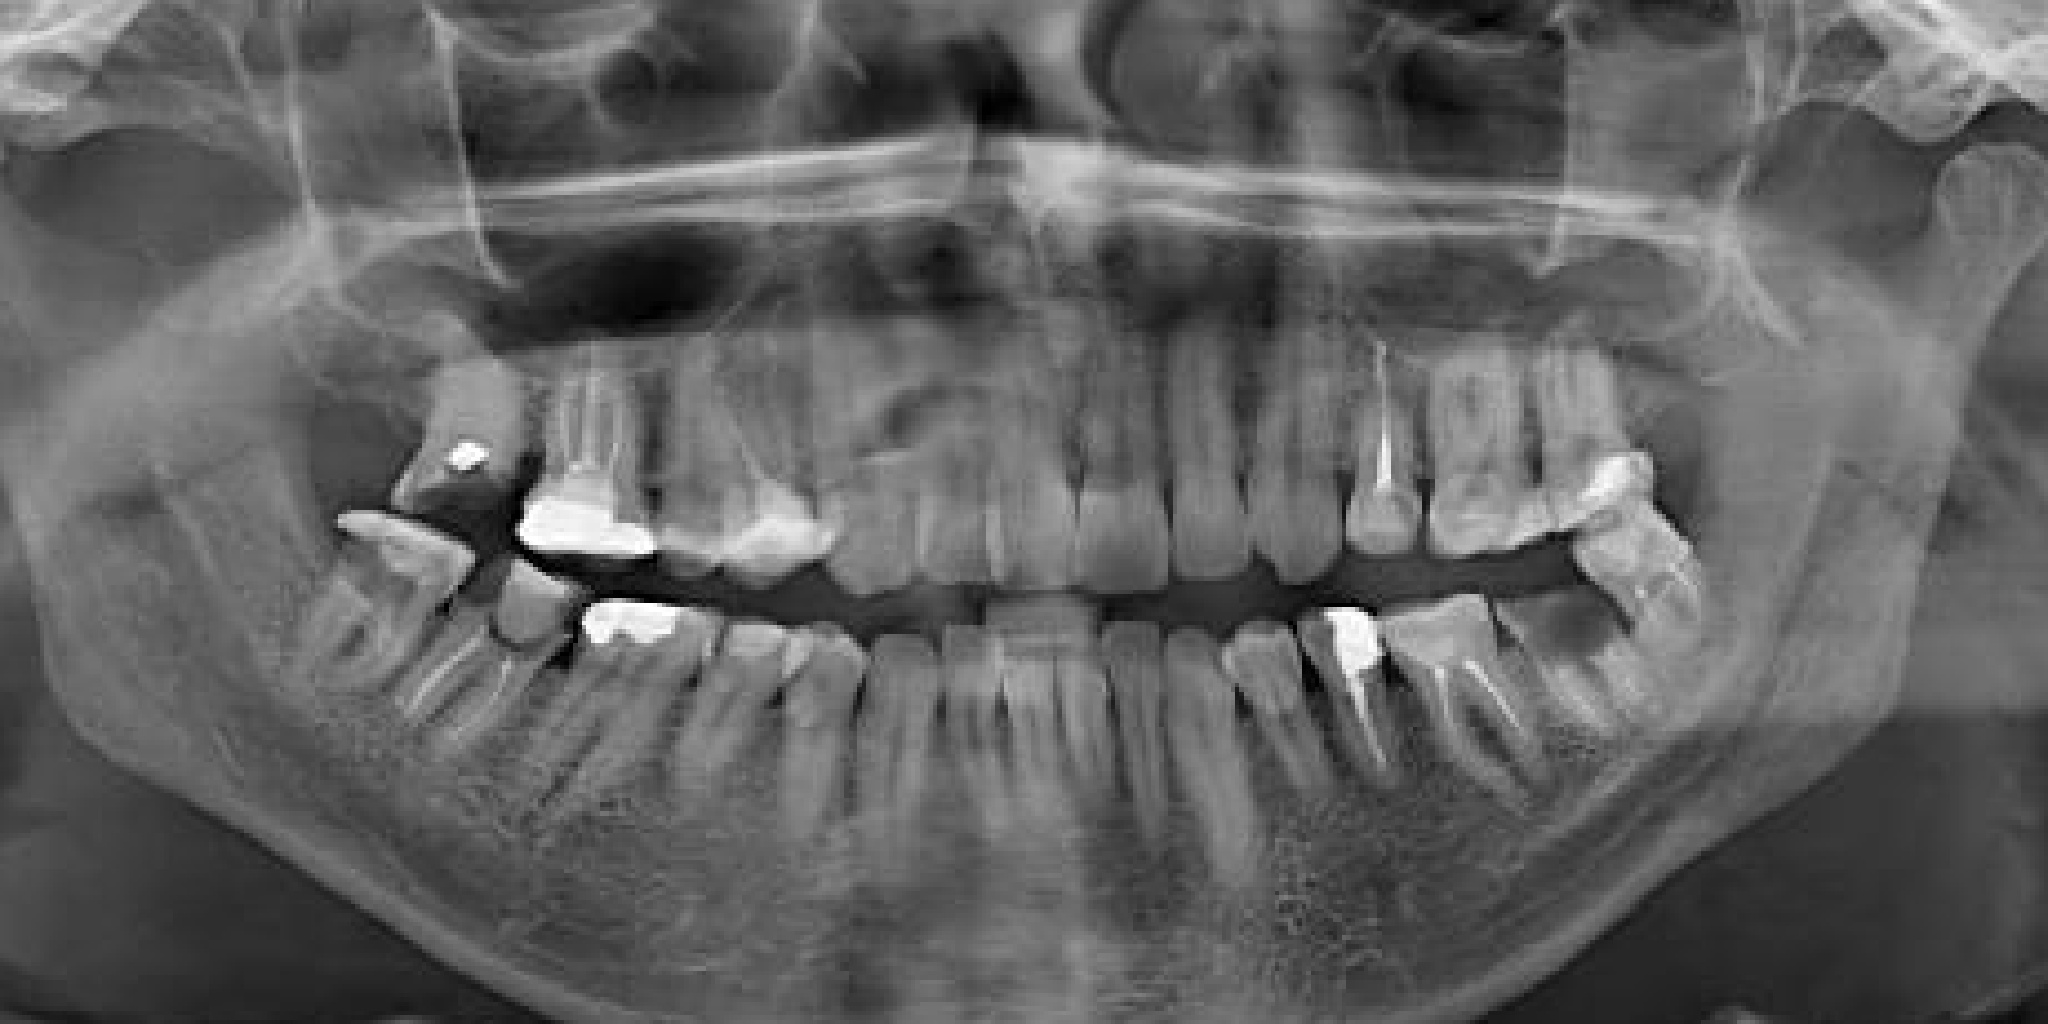Tooth: (485, 551, 731, 863), (249, 469, 496, 734), (379, 524, 606, 799), (1358, 551, 1586, 824), (626, 586, 829, 857), (684, 296, 853, 596), (865, 296, 1021, 600), (1219, 253, 1352, 589), (508, 323, 675, 577), (364, 296, 539, 532), (1147, 611, 1283, 901), (1143, 300, 1277, 590), (1552, 473, 1731, 687), (1512, 296, 1664, 546), (1486, 556, 1668, 764), (968, 303, 1092, 596), (1416, 316, 1558, 566), (1061, 307, 1179, 600), (1287, 581, 1435, 812), (1204, 606, 1352, 829), (844, 626, 951, 905), (650, 325, 765, 583), (984, 601, 1091, 833), (1327, 321, 1428, 568), (1040, 606, 1147, 825)
